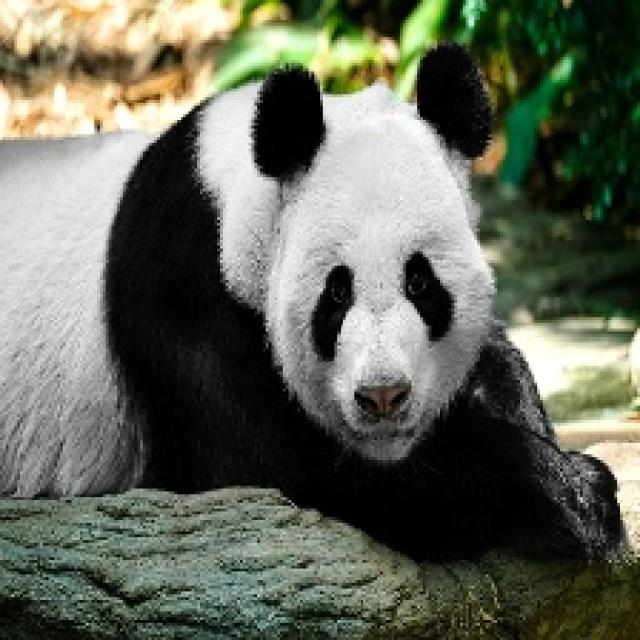bear: (78, 78, 606, 544)
